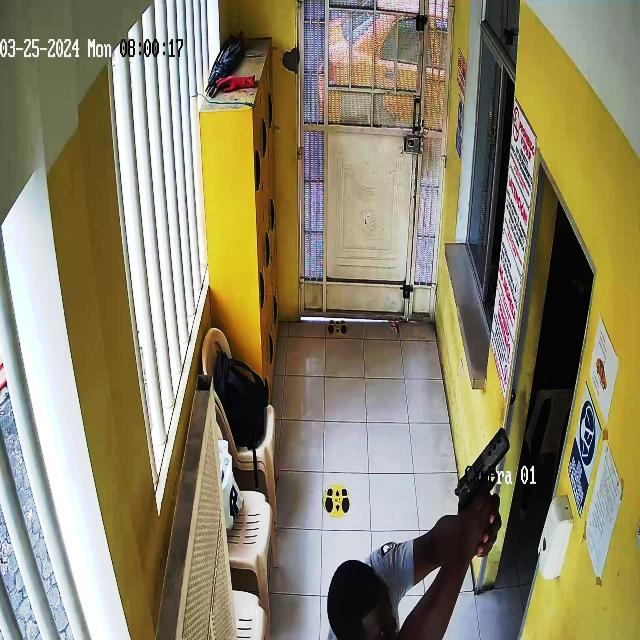Gun: (448, 410, 522, 538)
